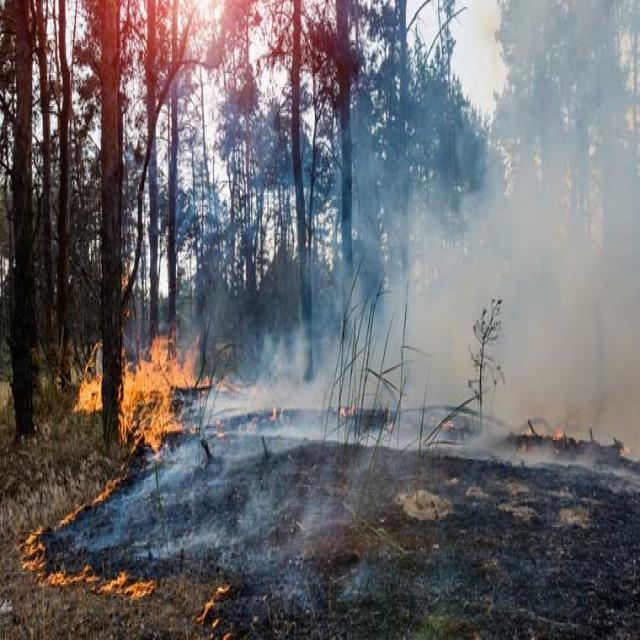Fire: (70, 332, 212, 465), (15, 530, 158, 603), (213, 371, 291, 438), (196, 577, 236, 640), (89, 468, 134, 502), (117, 260, 135, 298), (54, 506, 88, 526), (338, 404, 358, 426), (552, 423, 570, 444), (440, 417, 458, 435), (624, 442, 631, 466)
Smoke: (219, 1, 640, 472), (84, 468, 422, 602), (161, 436, 213, 464)
